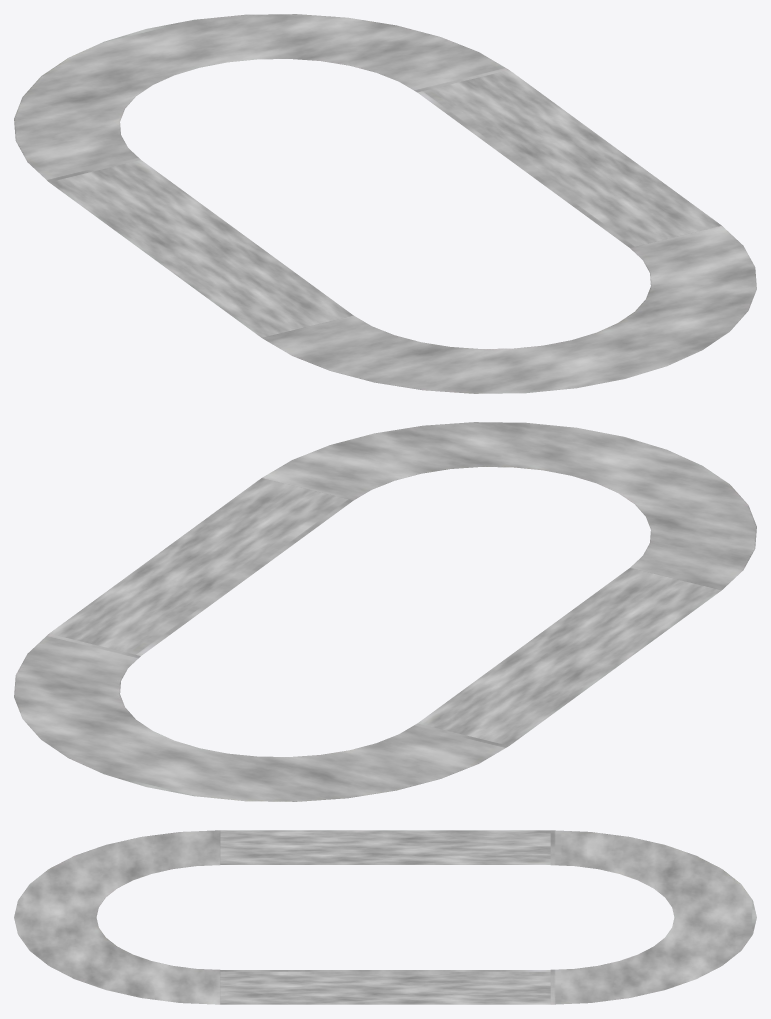
The model's file is TrackTest.glb.
3 renders of one model, top to bottom at view 1: azimuth 30°, elevation 25°; view 2: azimuth 150°, elevation 25°; view 3: azimuth 270°, elevation 25°, orthographic. The views are drawn at different scales.
Parts seen in each view (by area): view 1: Circle, Circle.001, Plane, Plane.001; view 2: Circle, Circle.001, Plane, Plane.001; view 3: Circle, Circle.001, Plane, Plane.001.
Boxes of the visible parts, x1,y1,x2,y2 form: Circle: (14, 14, 508, 182); Circle.001: (262, 225, 756, 393); Plane: (417, 70, 721, 247); Plane.001: (49, 160, 353, 337); Circle: (14, 633, 508, 801); Circle.001: (262, 422, 756, 590); Plane: (49, 478, 353, 655); Plane.001: (417, 568, 721, 745); Circle: (550, 830, 756, 1004); Circle.001: (14, 830, 220, 1004); Plane: (220, 970, 550, 1004); Plane.001: (220, 830, 550, 864).
Size of the model in its own units: 10 by 0 by 18.
Materials: 1 (1 with a texture image).
